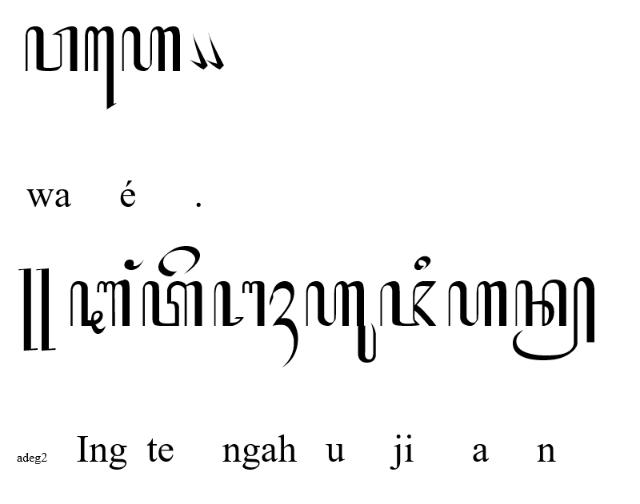-n: (512, 276, 596, 360)
I: (70, 279, 130, 335)
_h1: (270, 282, 298, 369)
adeg2: (18, 268, 56, 352)
e: (157, 247, 200, 278)
e1: (84, 26, 116, 110)
h: (121, 26, 180, 72), (448, 282, 508, 326)
hu: (306, 281, 376, 363)
i: (416, 256, 430, 270)
j: (379, 281, 436, 327)
kom: (206, 30, 224, 70), (189, 31, 207, 69)
ng: (124, 260, 144, 270)
nga: (213, 280, 265, 325)
t: (142, 280, 204, 327)
w: (24, 26, 78, 72)
